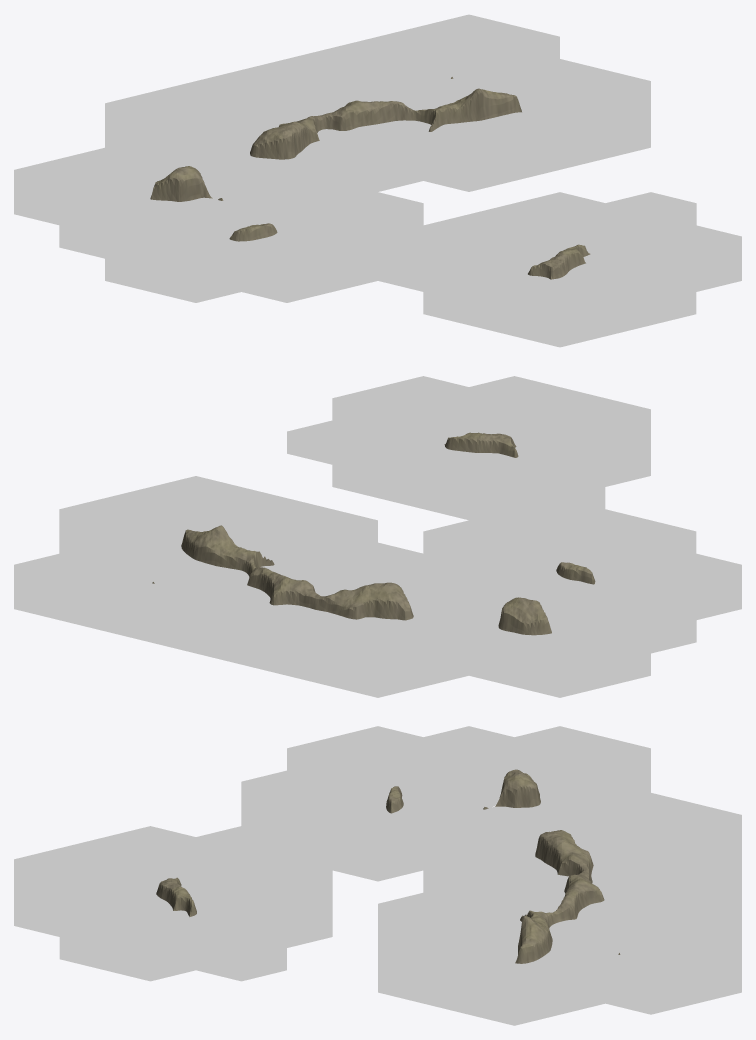
The model's file is landmark-abrolhos-balanced.v1.glb.
3 views of the same model, one above another, from view 1: azimuth 30°, elevation 25°; view 2: azimuth 150°, elevation 25°; view 3: azimuth 270°, elevation 25° (orthographic).
Visible parts, largest first — view 1: surf, island; view 2: surf, island; view 3: surf, island.
Part boxes in pixels (x1,y1,x2,y2): surf: (14,14,741,347); island: (150,77,590,279); surf: (14,376,741,697); island: (152,432,595,635); surf: (14,726,741,1025); island: (156,769,620,963).
Bounding box in the file's own units: 45.9 × 5.21 × 47.11.
